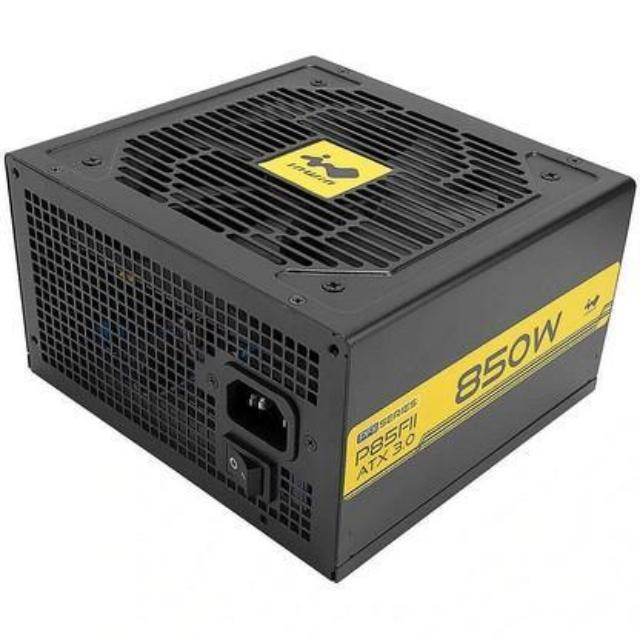PSU: (0, 34, 640, 583)
